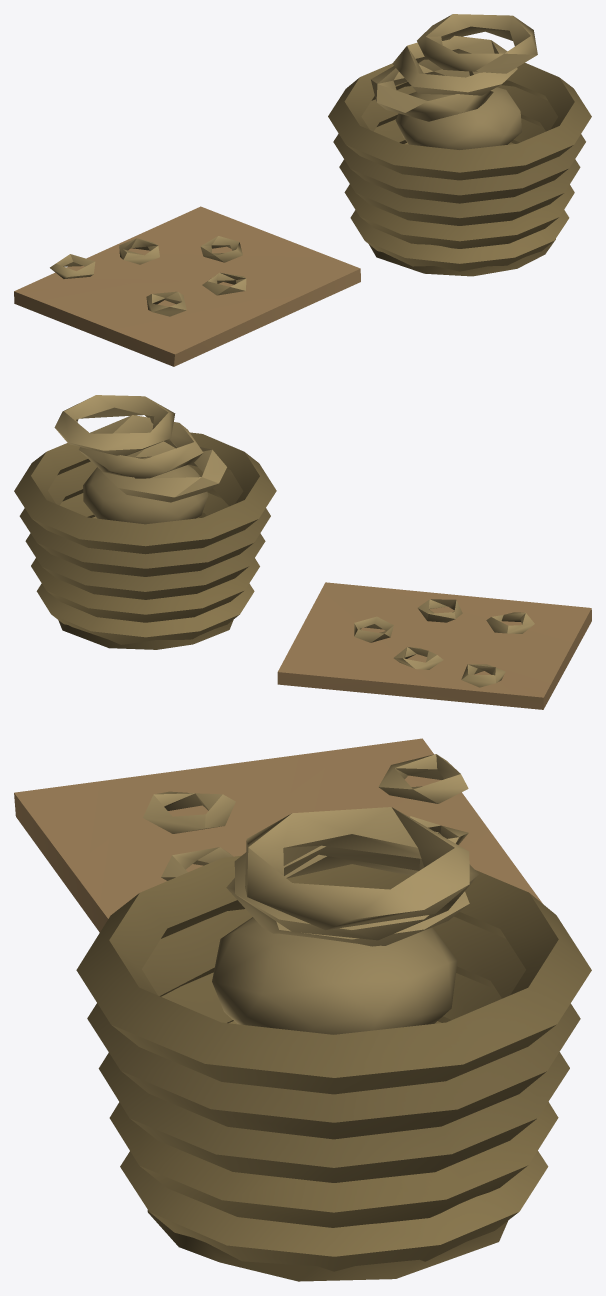
The model's file is knot_board_b_lod1.glb.
3 views of the same model, one above another, from view 1: azimuth 30°, elevation 25°; view 2: azimuth 150°, elevation 25°; view 3: azimuth 270°, elevation 25° (orthographic). The views are drawn at different scales.
Parts seen in each view (by area): view 1: Surface.001; view 2: Surface.001; view 3: Surface.001.
Part boxes in pixels (box(x1,y1,x2,y2)): Surface.001: box(14, 14, 591, 366); Surface.001: box(14, 395, 591, 709); Surface.001: box(14, 738, 591, 1281).
Size of the model in its own units: 3.34 by 1.16 by 1.59.
